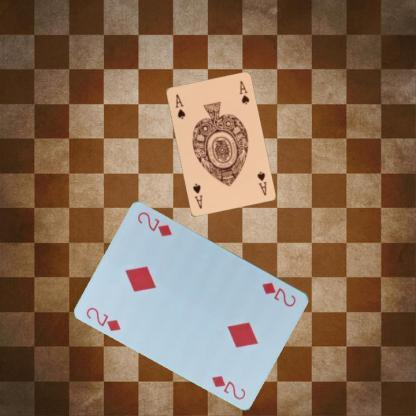2d: (260, 280, 298, 309), (84, 304, 122, 333)
As: (172, 91, 186, 120), (254, 168, 268, 196)
